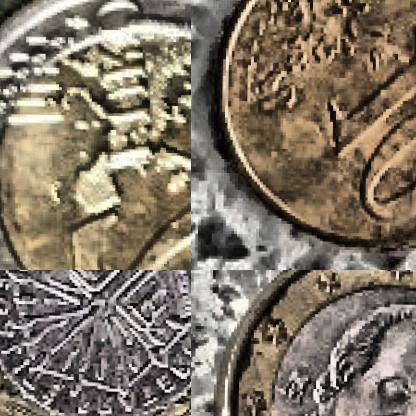coin: (209, 0, 415, 257), (0, 0, 190, 269), (208, 270, 415, 415), (0, 270, 190, 415)
